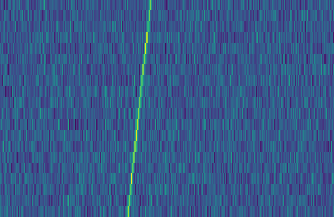signal: (121, 0, 154, 217)
